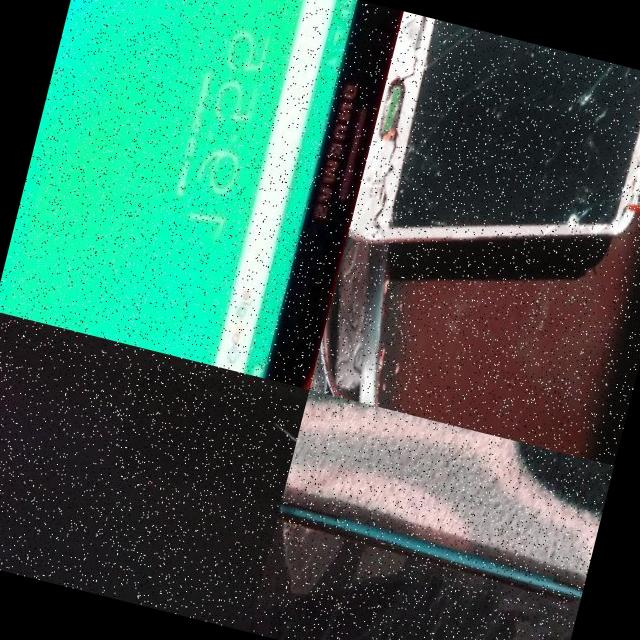scratch: (260, 419, 300, 460)
screen crack: (347, 10, 640, 304), (256, 488, 342, 612)
